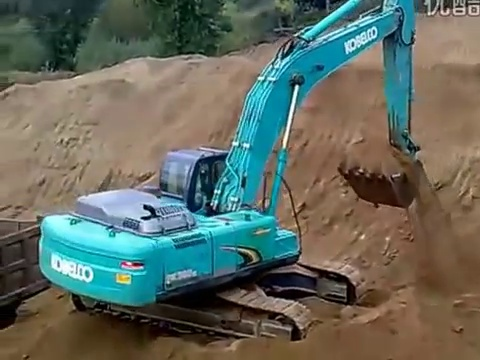excavator: (38, 1, 422, 345)
truck: (1, 213, 52, 330)
